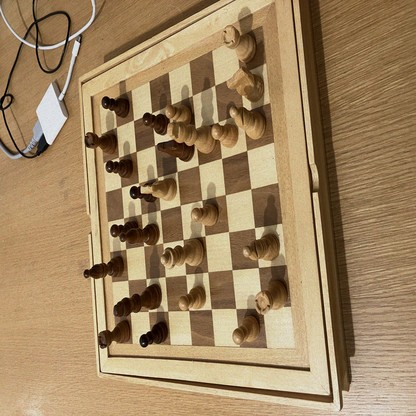bishop_black: (83, 256, 125, 280), (121, 225, 160, 246)
bishop_white: (228, 105, 266, 139), (243, 233, 281, 261)
king_black: (114, 285, 161, 317)
king_white: (168, 122, 215, 153)
knight_black: (158, 141, 195, 160)
knight_white: (141, 179, 176, 199)
pawn_black: (140, 322, 170, 347), (143, 112, 168, 135), (105, 159, 134, 178), (101, 96, 129, 115), (110, 219, 138, 237), (130, 185, 155, 203)
pawn_white: (213, 123, 239, 147), (191, 204, 219, 226), (165, 104, 192, 122)
queen_white: (161, 239, 204, 267)
rock_black: (98, 322, 130, 348), (84, 133, 117, 153)
rock_white: (222, 26, 257, 62), (255, 277, 288, 314), (227, 69, 265, 100), (233, 317, 259, 345), (180, 285, 206, 310)
